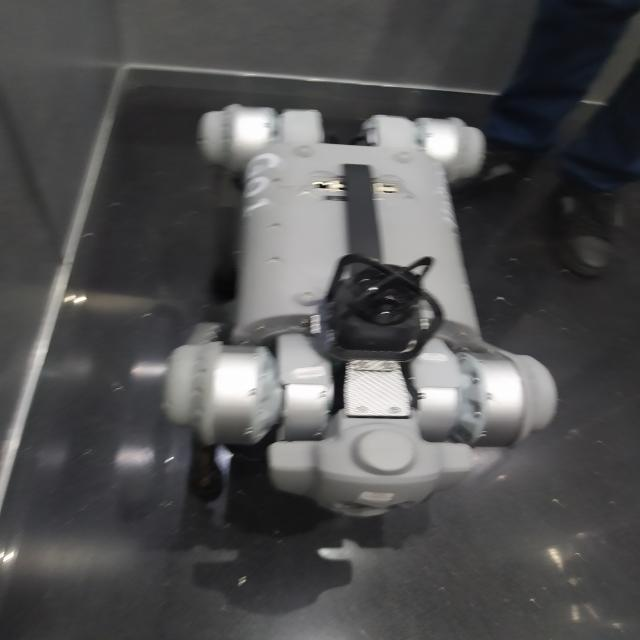unitree-go1-robot: (146, 84, 565, 535)
